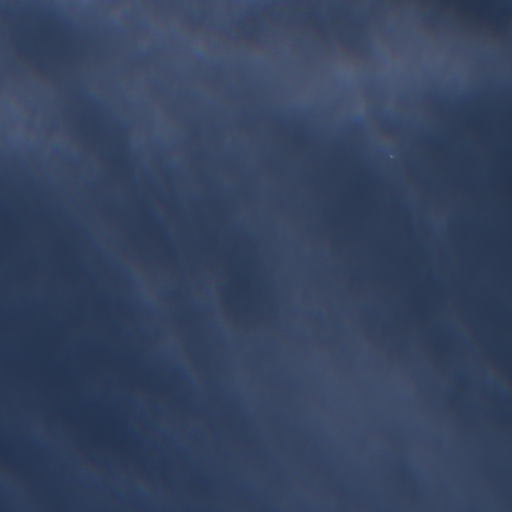Iceberg: (390, 155, 392, 157)
